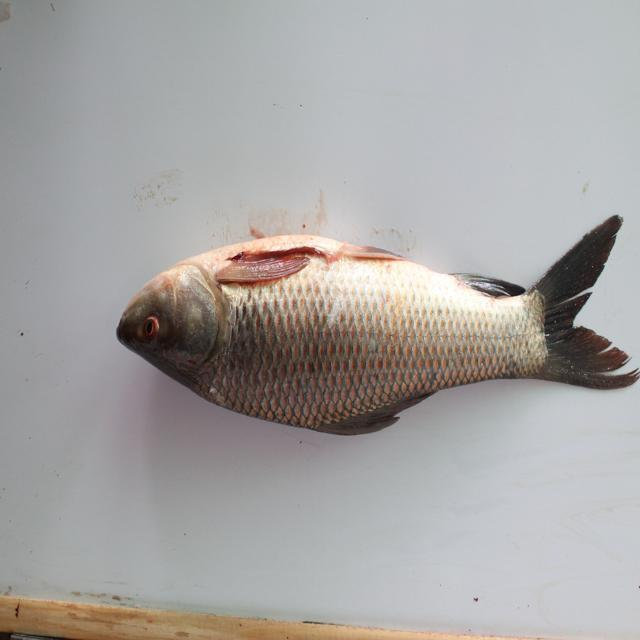Rohu: (111, 210, 640, 423)
